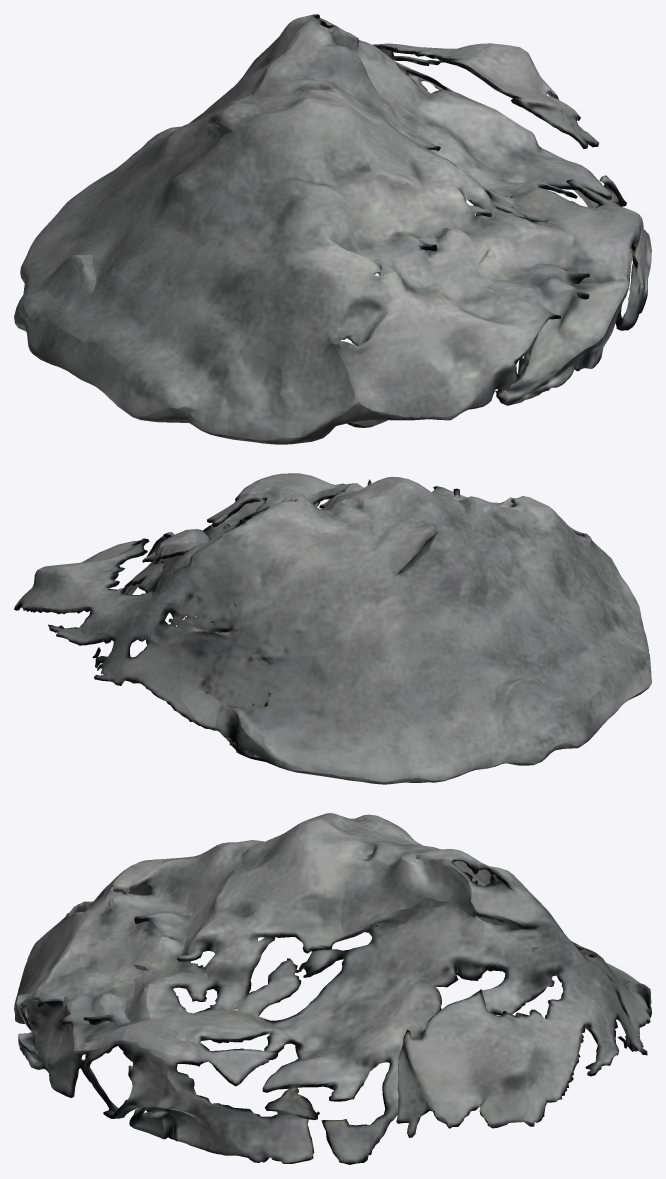
The picture shows the model from 3 angles, top to bottom: view 1: azimuth 30°, elevation 25°; view 2: azimuth 150°, elevation 25°; view 3: azimuth 270°, elevation 25°; orthographic projection. The views are drawn at different scales.
Visible parts, largest first — view 1: world; view 2: world; view 3: world.
Boxes of the visible parts, x1,y1,x2,y2 form: world: (14, 14, 651, 444); world: (14, 473, 651, 784); world: (14, 813, 651, 1164).
Size of the model in its own units: 0.32 by 0.1193 by 0.3128.
1 material, 1 textured.
